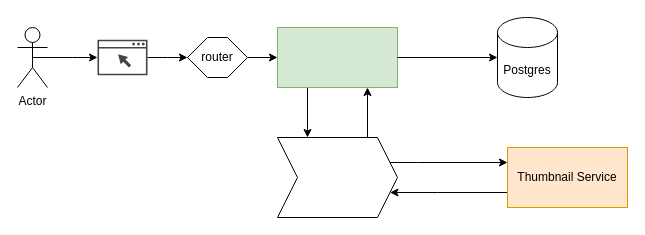
Image size: 645x235. Some labels were removed from this diagram. Here are the shapes that lost their labels. From the top down, the centre of each, then its label:
pixel 337 57: Image Service
pixel 337 177: RabbitMQ
